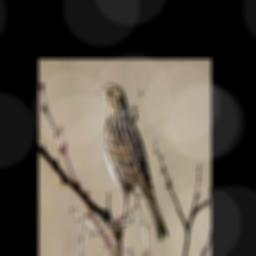Sparrow: (95, 79, 171, 246)
